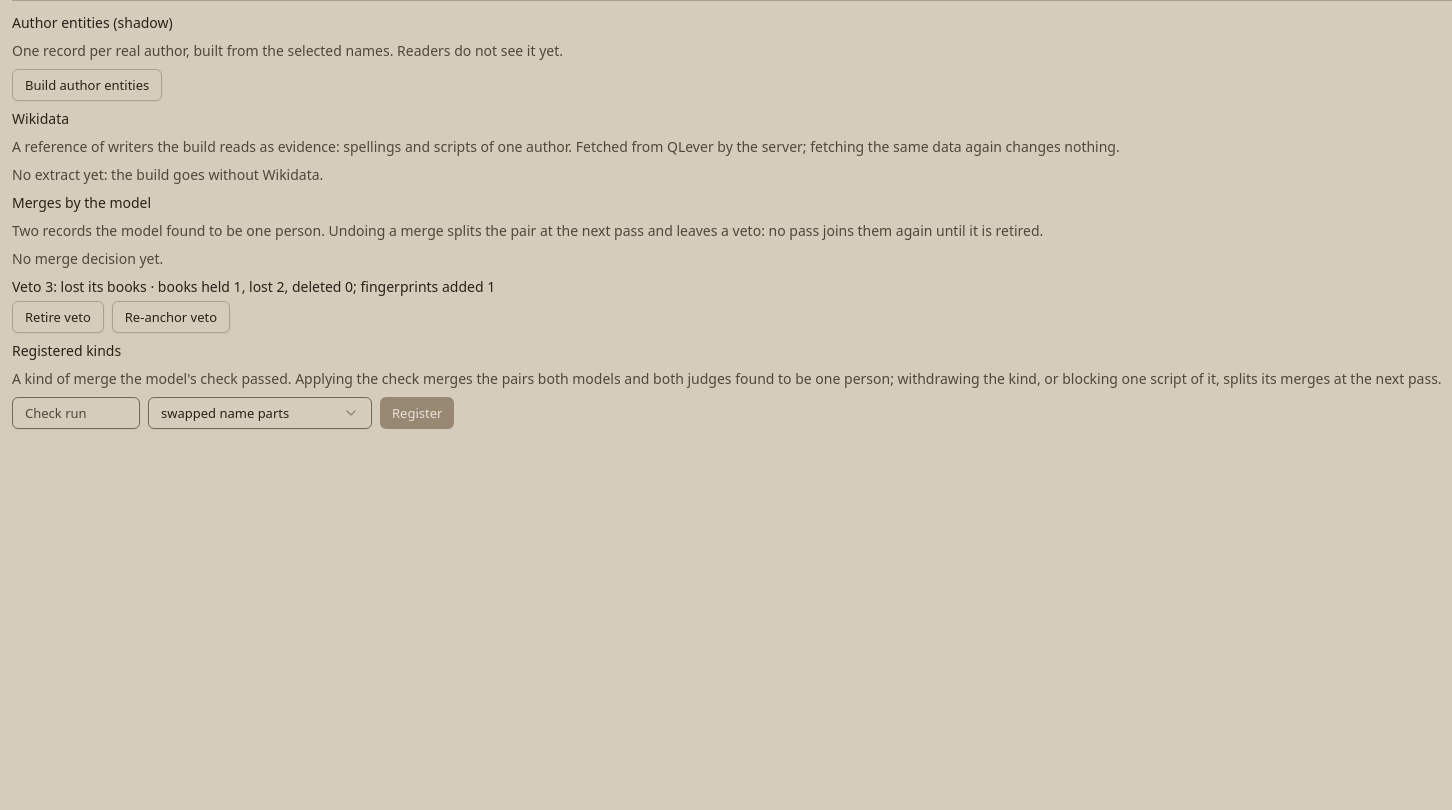
it: AuthorEntityBlock › says why a re-anchor was refused
The image size is (1452, 810).
Click the button "Re-anchor veto": point(171, 317) [112,301,230,333]
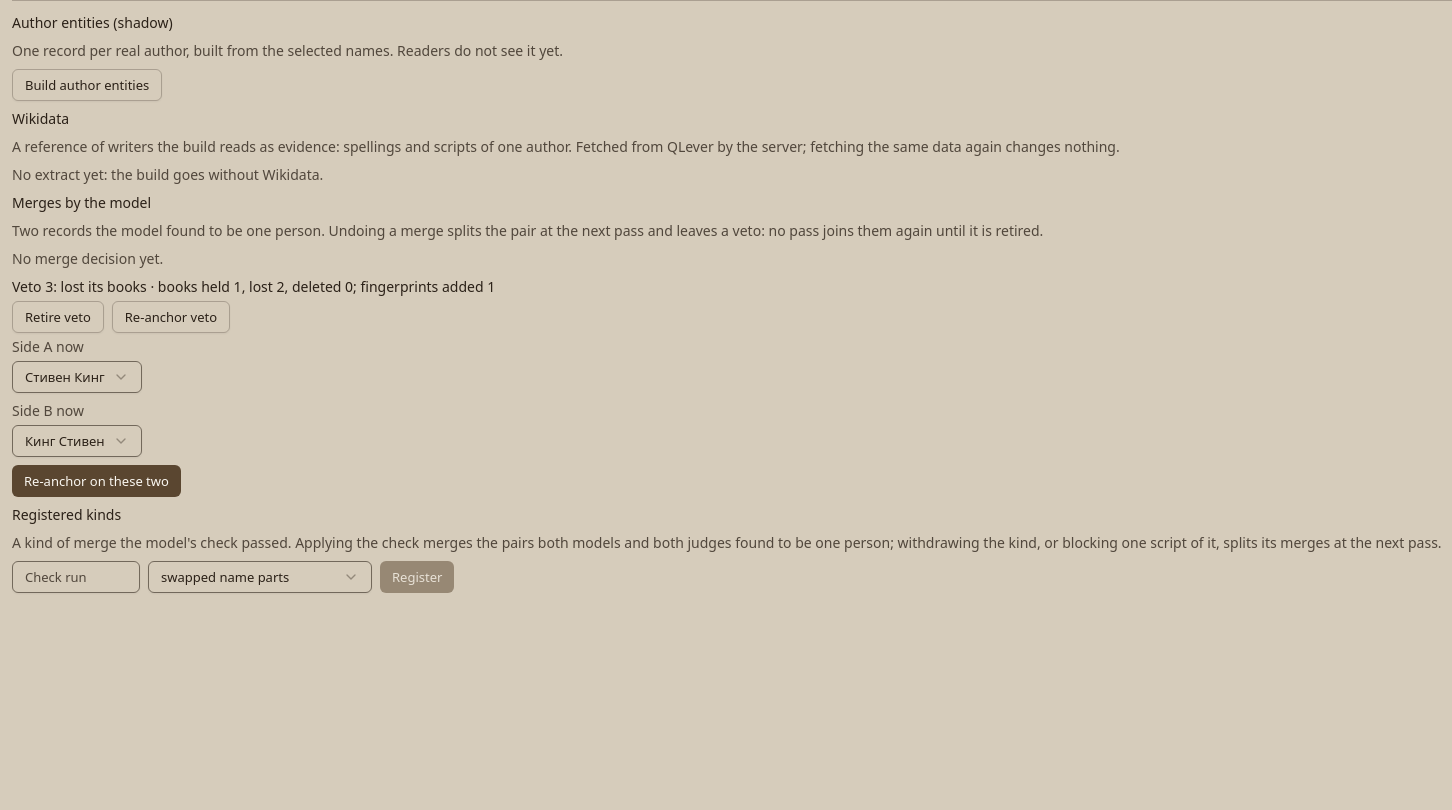
Click the button "Re-anchor on these two": point(96, 481) [12,465,181,497]
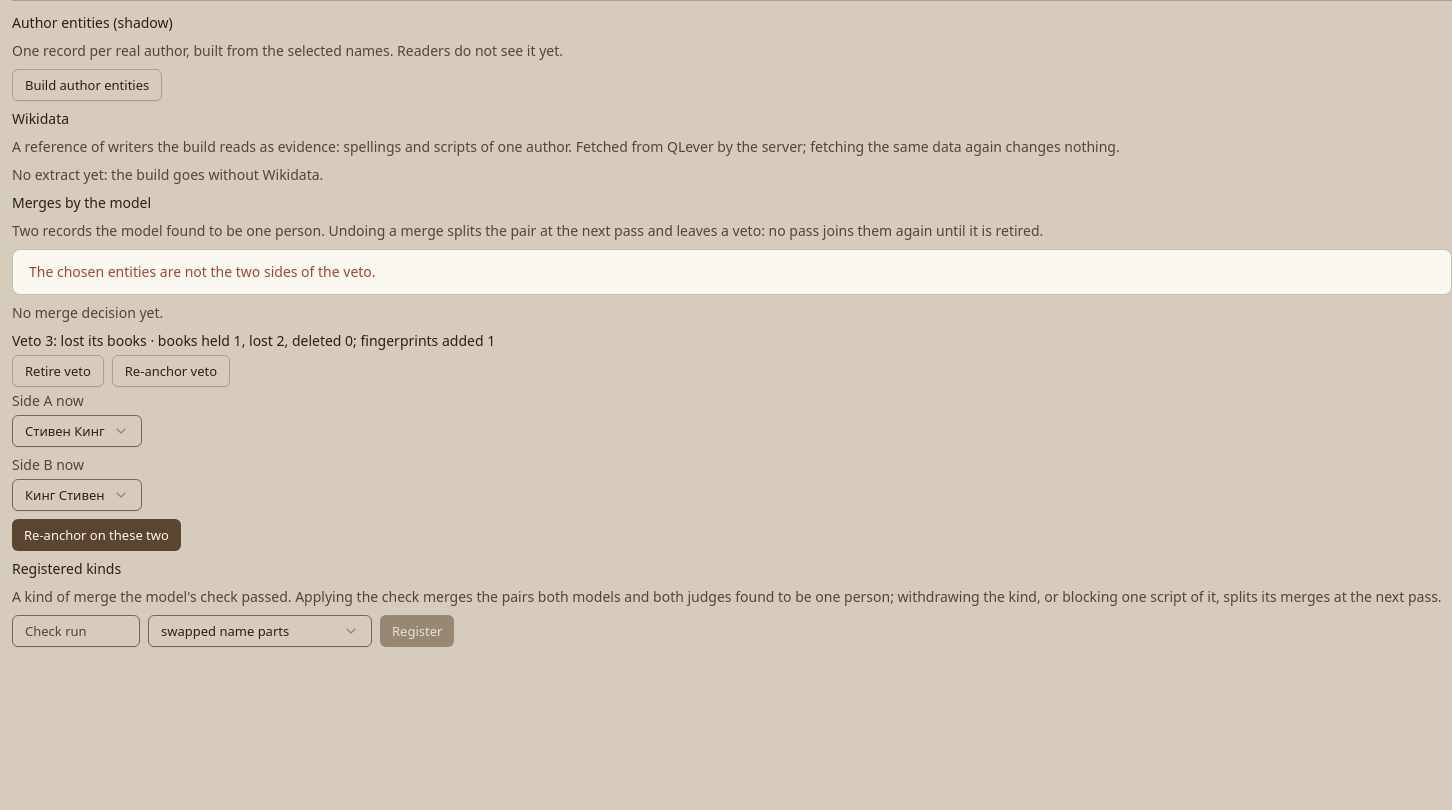
expect the text "The chosen entities are not the two sides of the veto." is shown: met, box [29,262,376,281]
